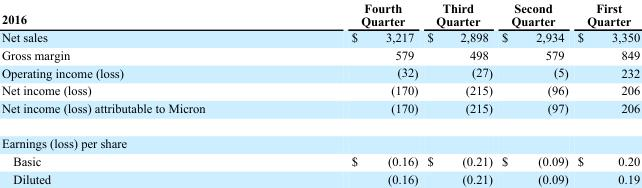table: (0, 0, 639, 185)
table column: (0, 0, 277, 185), (277, 0, 421, 185), (496, 0, 572, 185), (421, 0, 496, 185), (572, 0, 639, 185)
table column header: (0, 0, 639, 28)
table projected row header: (0, 125, 639, 151)
table row: (0, 0, 639, 28), (0, 98, 639, 125), (0, 125, 639, 151), (0, 45, 639, 63), (0, 63, 639, 81), (0, 151, 639, 169), (0, 28, 639, 45), (0, 81, 639, 98), (0, 169, 639, 185)
